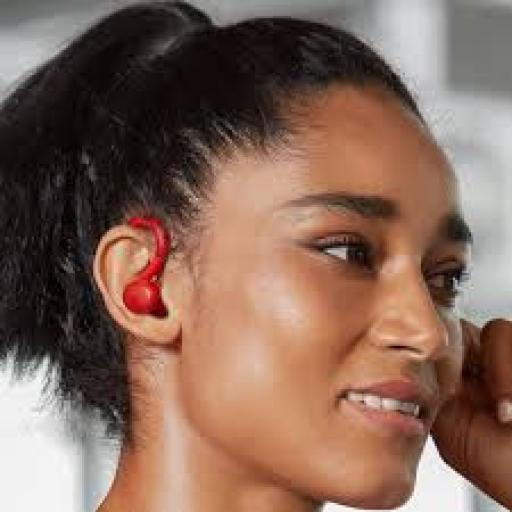earphone: (122, 206, 181, 329)
